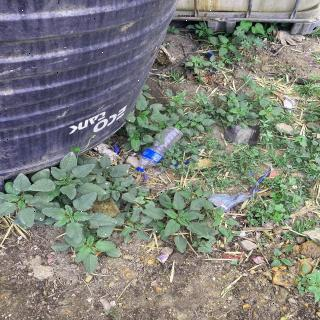Plastic-bottle: (134, 125, 189, 175)
